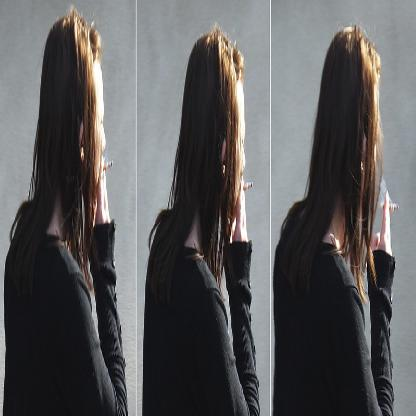smoking: (99, 160, 113, 170), (382, 203, 399, 211), (242, 182, 253, 191)
